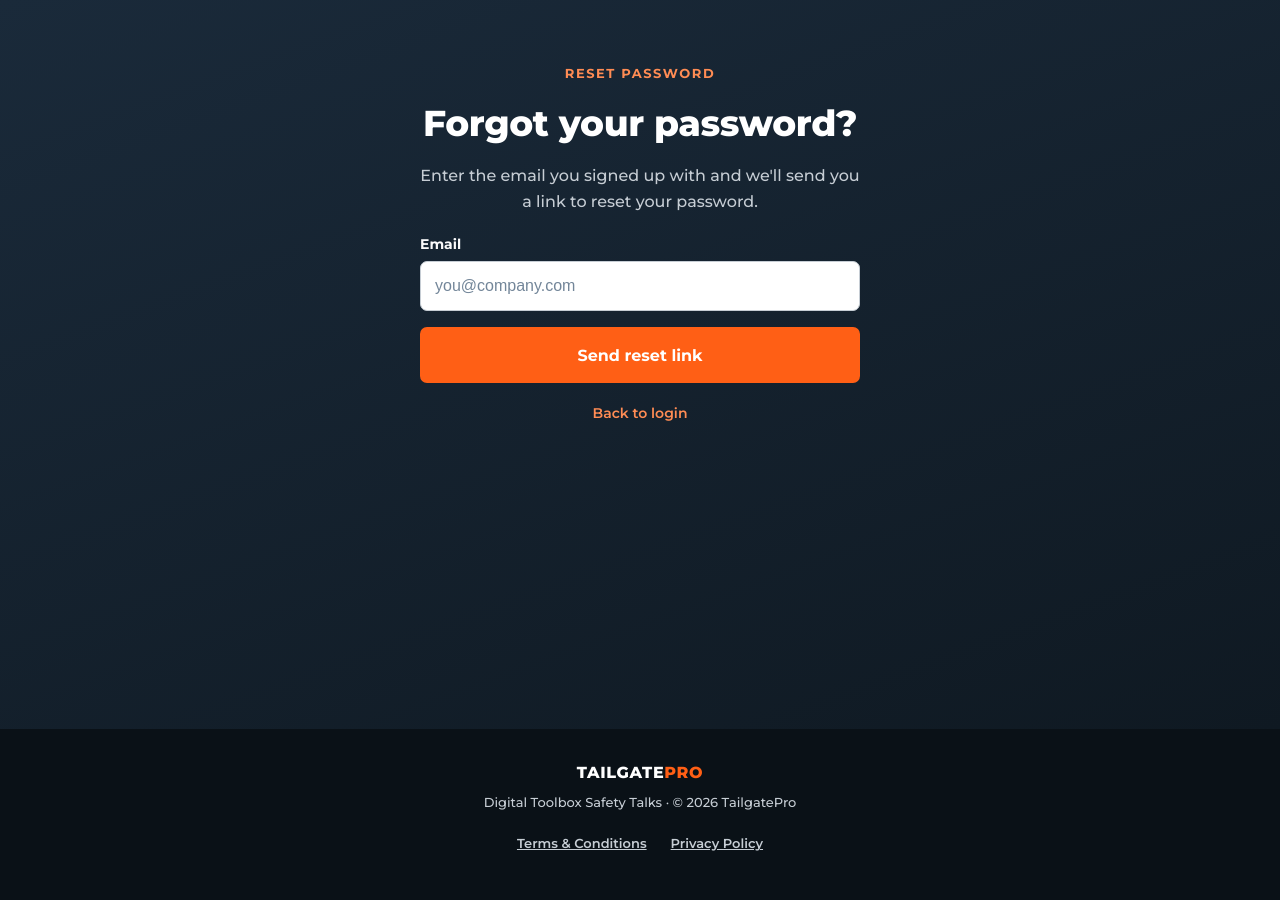
Test: ForgotPassword page › shows a validation error when submitting an empty email
Step 1. Click the button "Send reset link" → (640, 355), box [420, 327, 860, 383]
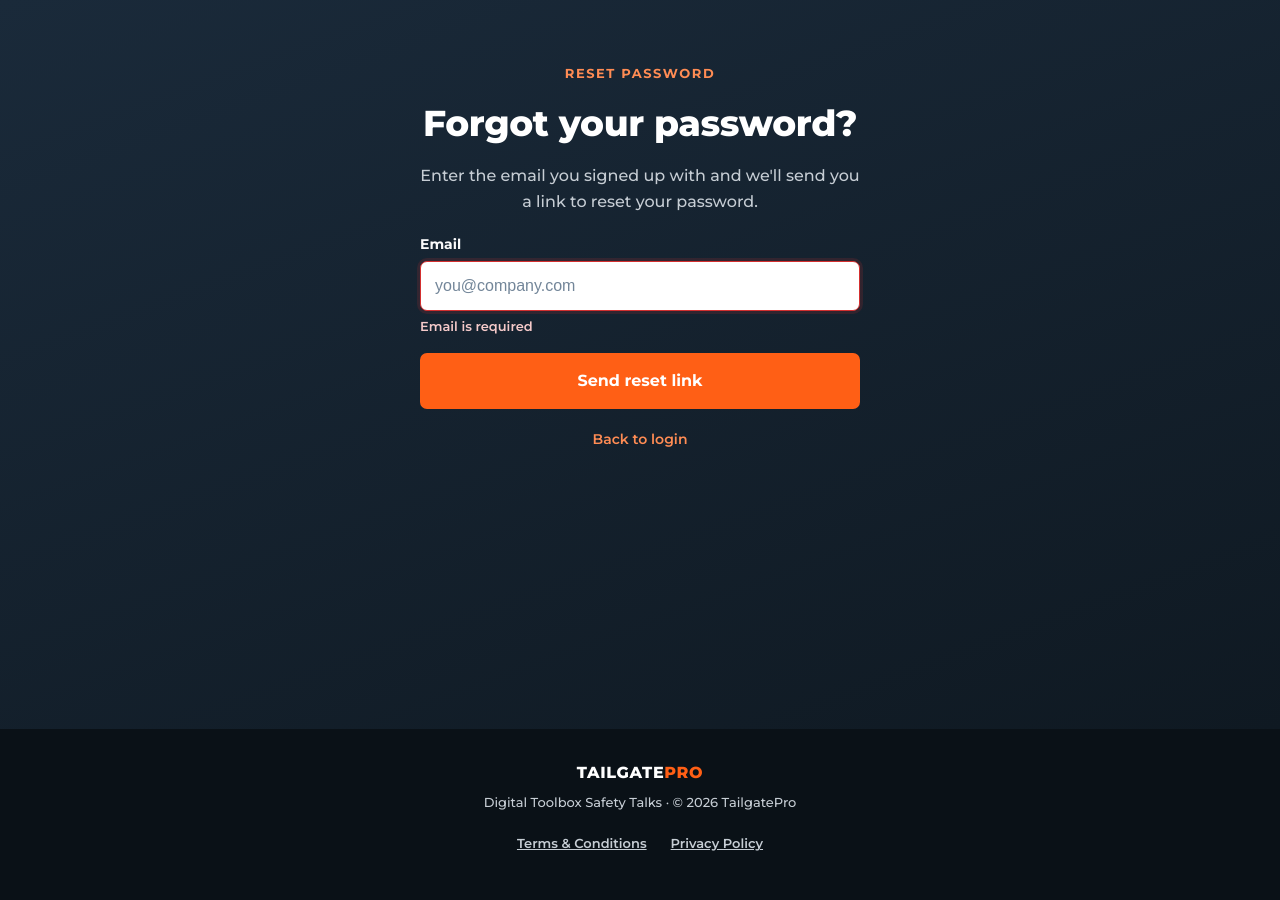
expect the text "Email is required" is shown: met, box [420, 318, 533, 334]
